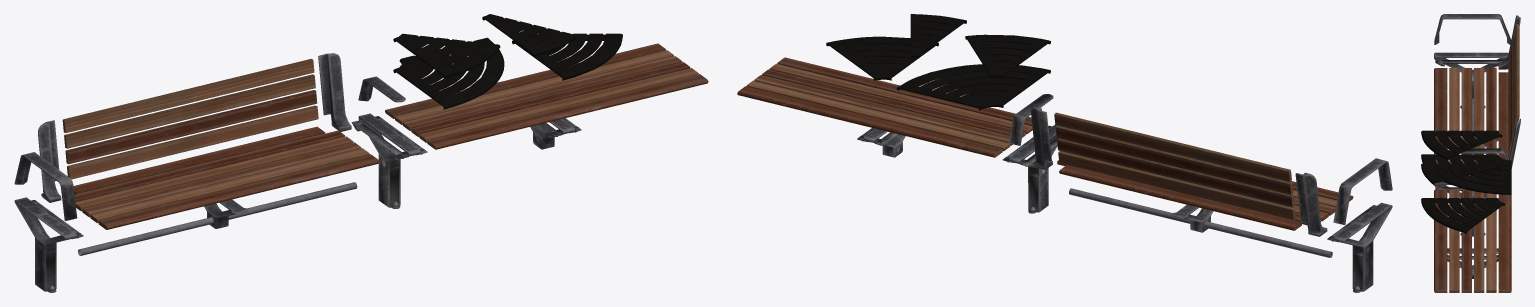
File: modular_street_seating.glb
3 views of the same model, side by side, from view 1: azimuth 30°, elevation 25°; view 2: azimuth 150°, elevation 25°; view 3: azimuth 270°, elevation 25° (orthographic). The views are drawn at different scales.
Parts seen in each view (by area): view 1: seat, seat_back, connector_60, legs_double, crossbar; view 2: seat, seat_back, connector_60, crossbar, legs_double; view 3: seat, connector_60, legs_double, crossbar, seat_back.
Boxes of the visible parts, x1,y1,x2,y2 form: seat: [73, 43, 708, 229]; seat_back: [62, 59, 318, 179]; connector_60: [393, 14, 622, 109]; legs_double: [14, 113, 581, 292]; crossbar: [14, 53, 405, 255]; seat: [737, 57, 1353, 230]; seat_back: [1054, 112, 1295, 220]; connector_60: [826, 14, 1050, 110]; crossbar: [1009, 94, 1392, 257]; legs_double: [857, 124, 1392, 292]; seat: [1434, 68, 1511, 292]; connector_60: [1421, 130, 1511, 233]; legs_double: [1434, 52, 1508, 278]; crossbar: [1434, 14, 1520, 196]; seat_back: [1508, 24, 1519, 157].
Bounding box in the file's own units: 4.34 × 0.95 × 0.7704.
4 materials, 4 textured.
